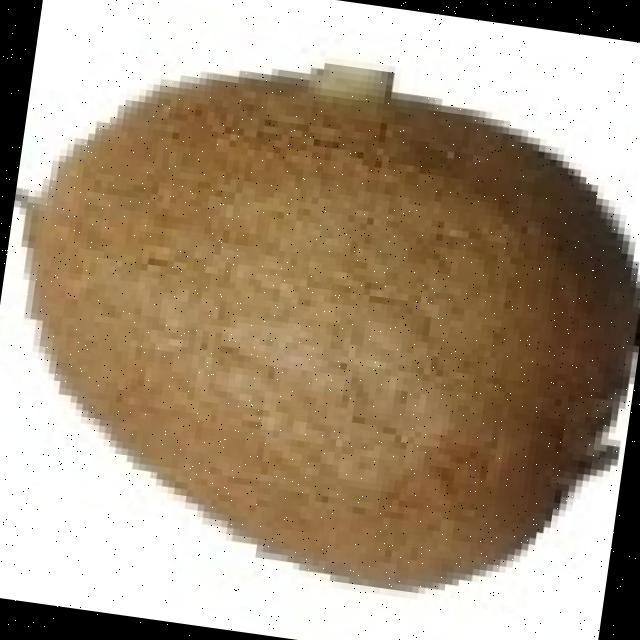kiwi: (19, 80, 623, 593)
